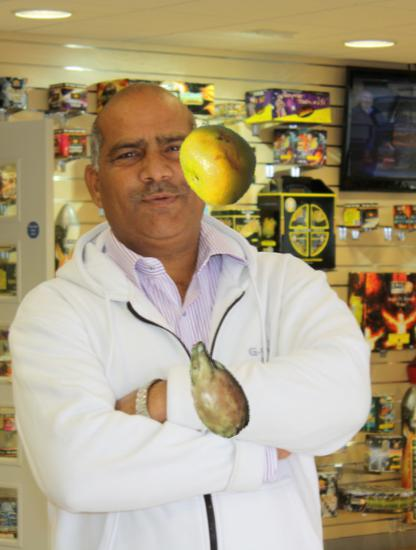Cactus: (163, 337, 267, 441)
Pomelo: (177, 122, 262, 207)
